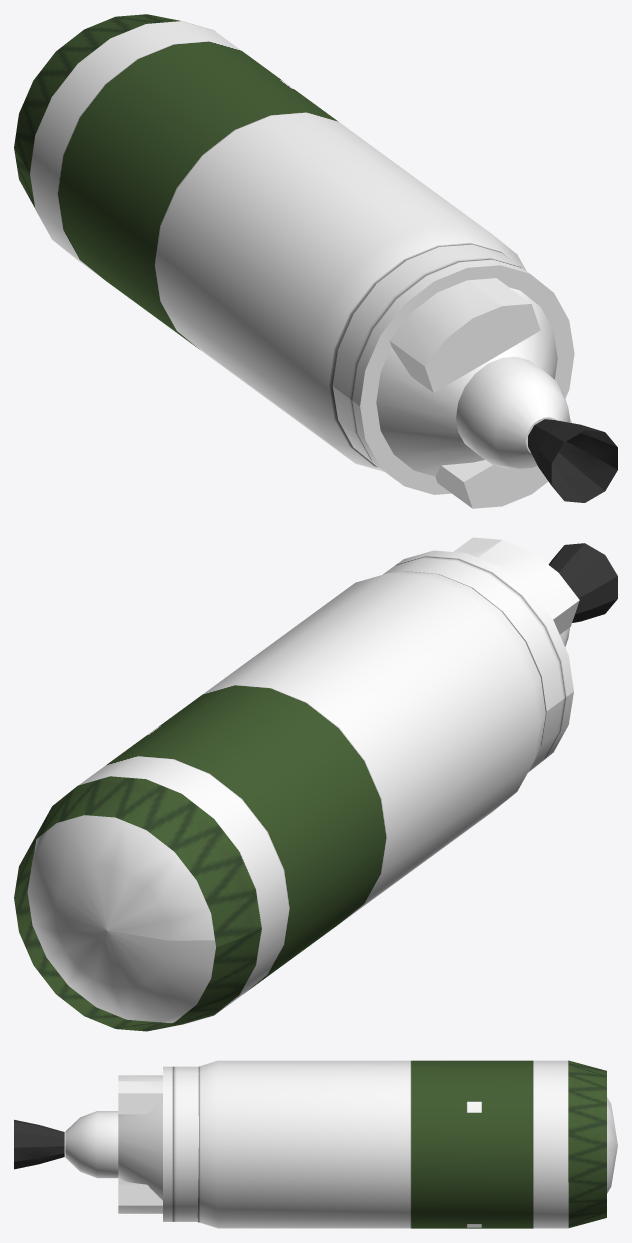
File: energiamcore.obj
The picture shows the model from 3 angles, top to bottom: view 1: azimuth 30°, elevation 25°; view 2: azimuth 150°, elevation 25°; view 3: azimuth 270°, elevation 25°; orthographic projection. The views are drawn at different scales.
Visible parts, largest first — view 1: group3, group5, group1, group6, group0, group4; view 2: group3, group2, group4, group5, group1, group0; view 3: group3, group4, group5, group6, group1, group0, group2.
Boxes of the visible parts, box(x1,y1,x2,y2) form: group3: box(30, 21, 557, 476); group5: box(332, 244, 574, 494); group1: box(389, 278, 571, 508); group6: box(456, 356, 569, 468); group0: box(528, 419, 617, 502); group4: box(14, 14, 180, 208); group3: box(34, 571, 546, 1025); group2: box(27, 815, 215, 1023); group4: box(14, 776, 261, 1031); group5: box(382, 550, 573, 772); group1: box(453, 537, 579, 634); group0: box(548, 543, 617, 622); group3: box(118, 1060, 568, 1228); group4: box(568, 1060, 606, 1227); group5: box(163, 1066, 198, 1221); group6: box(65, 1111, 118, 1178); group1: box(118, 1075, 162, 1213); group0: box(14, 1119, 64, 1169); group2: box(607, 1097, 617, 1193).
Size of the model in its own units: 8 by 8.01 by 28.56.
2 materials, 1 textured.
